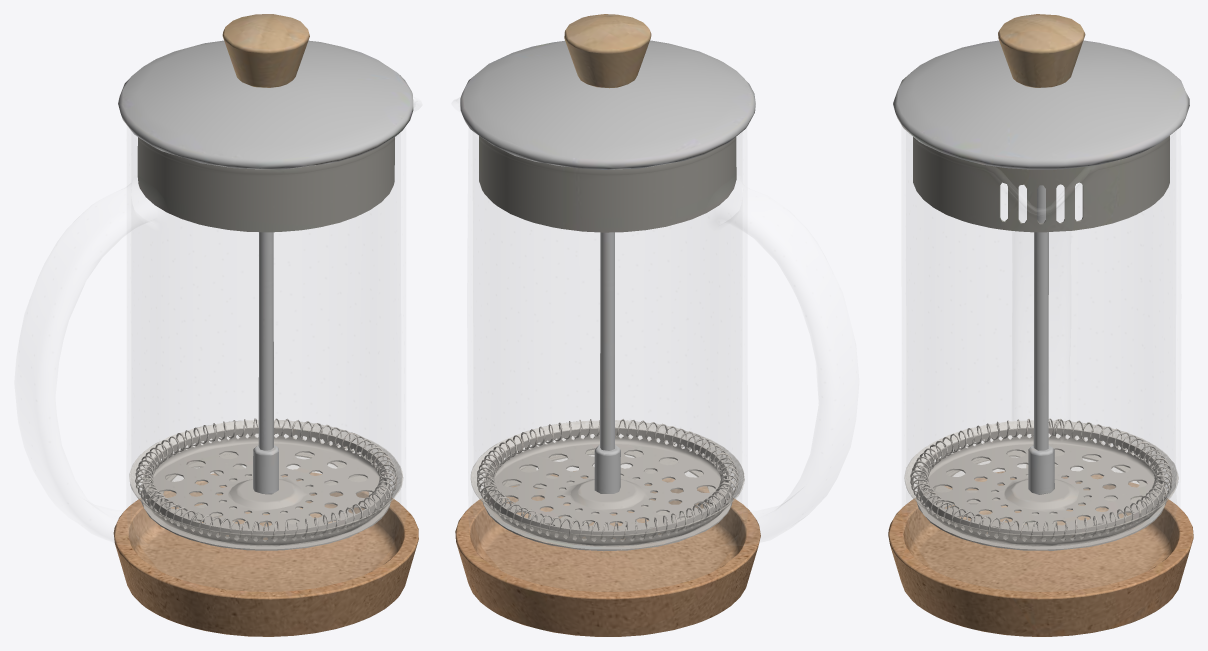
Rendered from ikea_365_zaparzacz_do_kawy_herbaty_20532724.glb.
3 views of the same model, side by side, from view 1: azimuth 30°, elevation 25°; view 2: azimuth 150°, elevation 25°; view 3: azimuth 270°, elevation 25° (orthographic).
Visible parts, largest first — view 1: ikea_365_zaparzacz_do_kawy_herbaty_20532724; view 2: ikea_365_zaparzacz_do_kawy_herbaty_20532724; view 3: ikea_365_zaparzacz_do_kawy_herbaty_20532724.
Boxes of the visible parts, box(x1,y1,x2,y2) form: ikea_365_zaparzacz_do_kawy_herbaty_20532724: box(84, 14, 419, 636); ikea_365_zaparzacz_do_kawy_herbaty_20532724: box(455, 14, 802, 636); ikea_365_zaparzacz_do_kawy_herbaty_20532724: box(888, 14, 1193, 636).
Size of the model in its own units: 0.1556 by 0.2095 by 0.1045.
2 materials, 2 textured.
